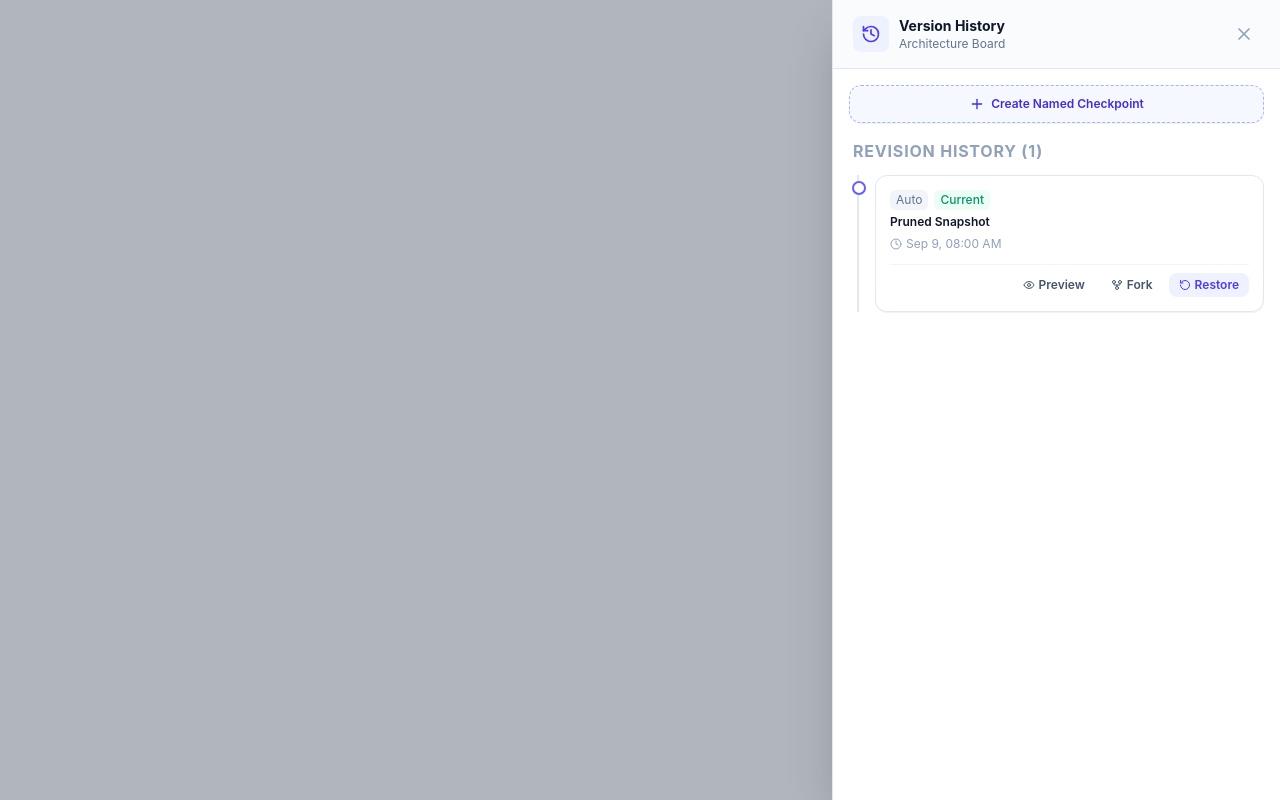
Test: HistoryDrawer › handles 404 on preview by displaying error and refreshing snapshot list
This screenshot has width=1280, height=800.
Step 1. Click the button "Preview" → (1054, 285), box [1012,273,1095,297]
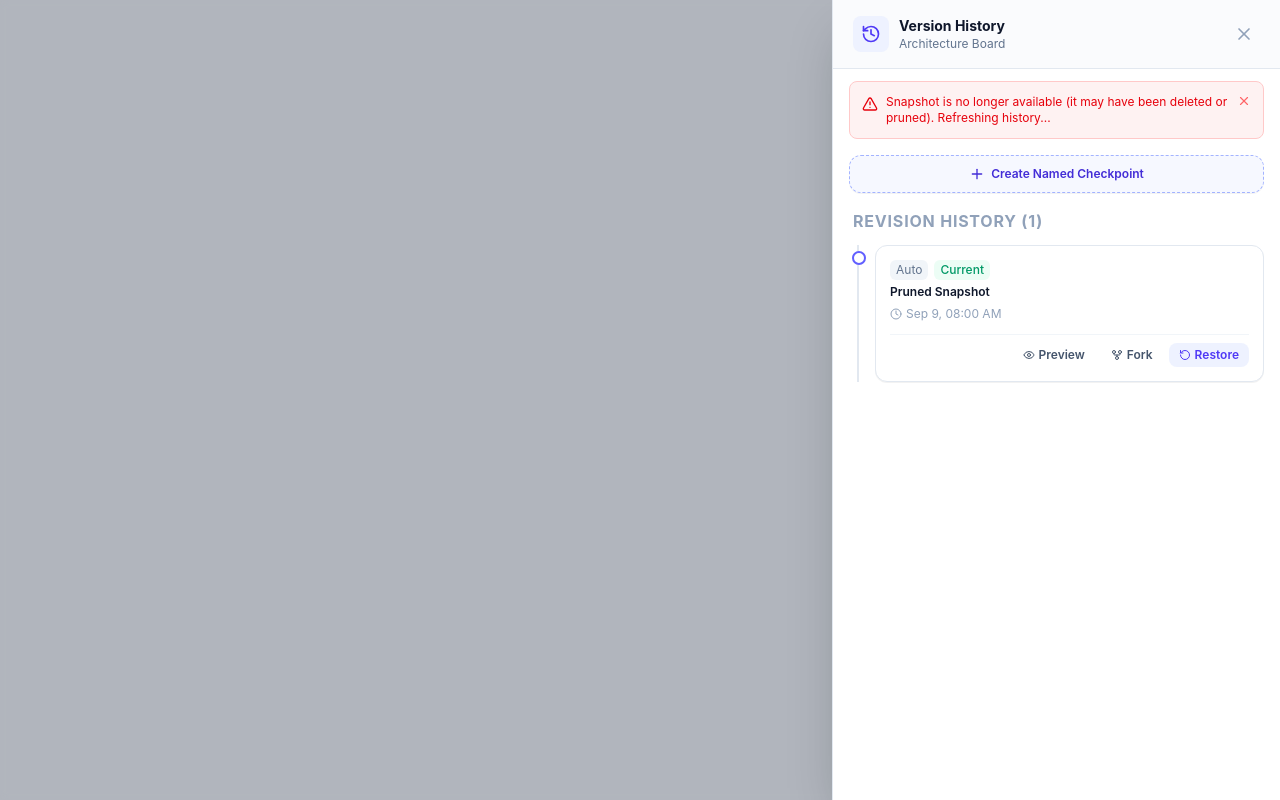
Check: the text "Snapshot is no longer available" is shown, box [886,94,1227,125]
